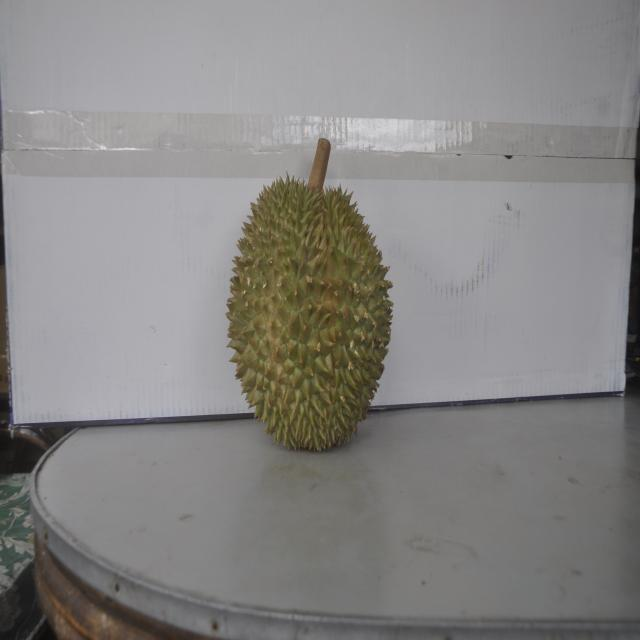mature: (226, 155, 396, 455)
